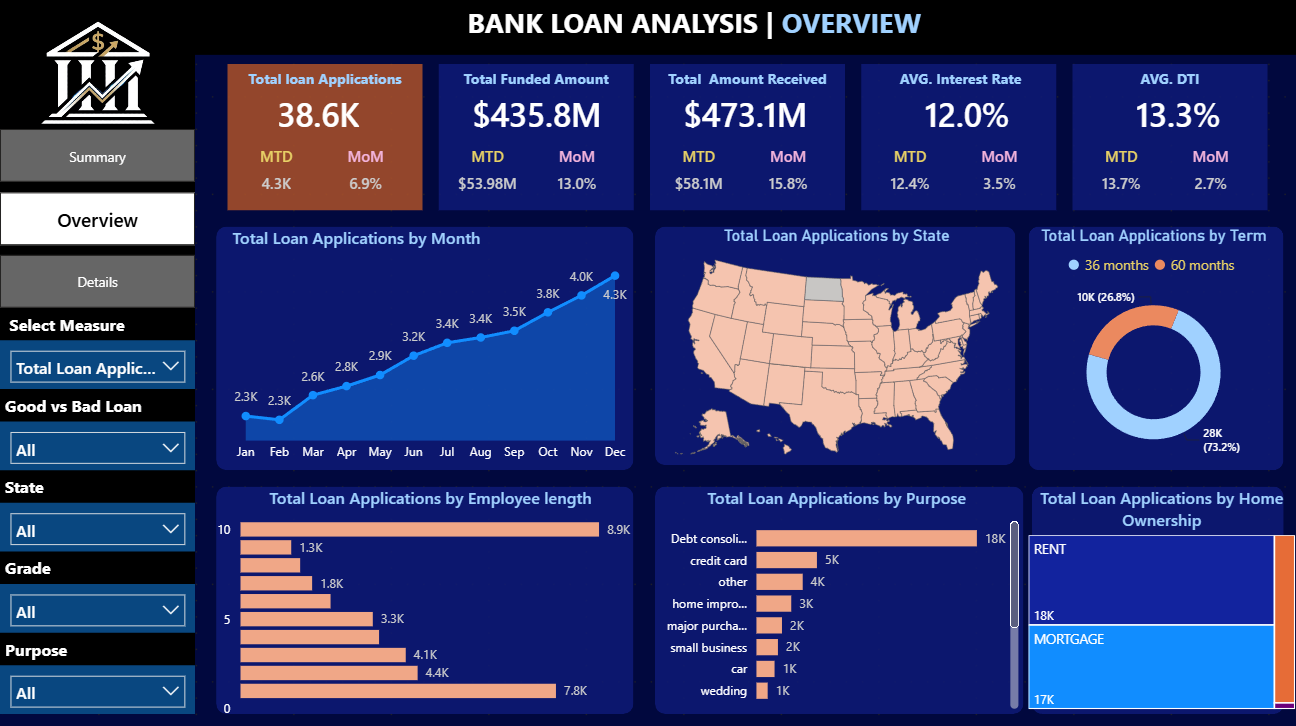

The dashboard page shown, as its layout file describes it:
{"tool":"powerbi","page":{"name":"Overview","canvas":[1280,720],"ordinal":1},"visuals":[{"type":"shape","box":[224,64,192,144],"z":0,"group":"g1"},{"type":"shape","box":[432,64,192,144],"z":0,"group":"g2"},{"type":"shape","box":[640,64,192,144],"z":0,"group":"g3"},{"type":"shape","box":[848,64,192,144],"z":0,"group":"g4"},{"type":"shape","box":[1056,64,192,144],"z":0,"group":"g5"},{"type":"shape","box":[208,224,416,240],"z":0},{"type":"slicer","fields":{"Values":["public cleaned_financial_loan.address_state"]},"box":[0,496,192,48],"z":0,"group":"g6"},{"type":"slicer","fields":{"Values":["public cleaned_financial_loan.grade"]},"box":[0,576,192,48],"z":0,"group":"g8"},{"type":"slicer","fields":{"Values":["public cleaned_financial_loan.purpose"]},"box":[0,656,192,48],"z":0,"group":"g7"},{"type":"shape","box":[0,0,1280,55],"z":1000},{"type":"cardVisual","fields":{"Data":["public cleaned_financial_loan.Total Loan Applications"]},"box":[224,80,192,64],"z":1000,"group":"g1"},{"type":"cardVisual","fields":{"Data":["public cleaned_financial_loan.Total Funded Amount"]},"box":[416,80,240,64],"z":1000,"group":"g2"},{"type":"cardVisual","fields":{"Data":["public cleaned_financial_loan.Total Amount Received"]},"box":[624,80,240,64],"z":1000,"group":"g3"},{"type":"cardVisual","fields":{"Data":["public cleaned_financial_loan.AVG Interest Rate"]},"box":[832,80,240,64],"z":1000,"group":"g4"},{"type":"cardVisual","fields":{"Data":["public cleaned_financial_loan.AVG. DTI"]},"box":[1040,80,240,64],"z":1000,"group":"g5"},{"type":"textbox","box":[0,464,80,32],"z":1000,"group":"g6"},{"type":"textbox","box":[0,544,80,32],"z":1000,"group":"g8"},{"type":"textbox","box":[0,624,96,32],"z":1000,"group":"g7"},{"type":"shape","box":[0,32,192,672],"z":2000},{"type":"textbox","box":[224,64,192,32],"z":2000,"group":"g1"},{"type":"textbox","box":[432,64,192,32],"z":2000,"group":"g2"},{"type":"textbox","box":[640,64,192,32],"z":2000,"group":"g3"},{"type":"textbox","box":[848,64,192,32],"z":2000,"group":"g4"},{"type":"textbox","box":[1056,64,192,32],"z":2000,"group":"g5"},{"type":"textbox","box":[384,0,592,48],"z":3000},{"type":"cardVisual","title":"MTD","fields":{"Data":["public cleaned_financial_loan.MTD Loan Applications"]},"box":[224,144,96,64],"z":3000,"group":"g1"},{"type":"cardVisual","title":"MTD","fields":{"Data":["public cleaned_financial_loan.MTD Funded Amount"]},"box":[432,144,96,64],"z":3000,"group":"g2"},{"type":"cardVisual","title":"MTD","fields":{"Data":["public cleaned_financial_loan.MTD Total Amount Received"]},"box":[640,144,96,64],"z":3000,"group":"g3"},{"type":"cardVisual","title":"MTD","fields":{"Data":["public cleaned_financial_loan.MTD Avg Interest Rate"]},"box":[848,144,96,64],"z":3000,"group":"g4"},{"type":"cardVisual","title":"MTD","fields":{"Data":["public cleaned_financial_loan.MTD Avg DTI"]},"box":[1056,144,96,64],"z":3000,"group":"g5"},{"type":"group","id":"g1","title":"Group 1","box":[224,64,192,144],"z":4000},{"type":"cardVisual","title":"MoM","fields":{"Data":["public cleaned_financial_loan.MoM Loan Application"]},"box":[320,144,80,64],"z":4000,"group":"g1"},{"type":"cardVisual","title":"MoM","fields":{"Data":["public cleaned_financial_loan.MoM Funded Amount"]},"box":[528,144,80,64],"z":4000,"group":"g2"},{"type":"cardVisual","title":"MoM","fields":{"Data":["public cleaned_financial_loan.MoM Total Amount Received"]},"box":[736,144,80,64],"z":4000,"group":"g3"},{"type":"cardVisual","title":"MoM","fields":{"Data":["public cleaned_financial_loan.MoM Avg Interest Rate"]},"box":[944,144,80,64],"z":4000,"group":"g4"},{"type":"cardVisual","title":"MoM","fields":{"Data":["public cleaned_financial_loan.MoM Avg DTI"]},"box":[1152,144,80,64],"z":4000,"group":"g5"},{"type":"group","id":"g2","title":"Group 1","box":[416,64,240,144],"z":5000},{"type":"group","id":"g3","title":"Group 1","box":[624,64,240,144],"z":6000},{"type":"group","id":"g4","title":"Group 1","box":[832,64,240,144],"z":7000},{"type":"group","id":"g5","title":"Group 1","box":[1040,64,240,160],"z":8000},{"type":"slicer","fields":{"Values":["public cleaned_financial_loan.Good vs Bad Loan"]},"box":[0,416,192,48],"z":9000},{"type":"textbox","box":[0,384,160,32],"z":10000},{"type":"group","id":"g6","title":"Group 2","box":[0,464,192,80],"z":11000},{"type":"group","id":"g7","title":"Group 5","box":[0,624,192,80],"z":12000},{"type":"group","id":"g8","title":"Group 3","box":[0,544,192,80],"z":13000},{"type":"areaChart","fields":{"Y":["public cleaned_financial_loan.Total Amount Received"],"Category":["Date Table.Month"]},"box":[224,224,400,240],"z":14000},{"type":"slicer","fields":{"Values":["Select Measure.Select Measure"]},"box":[0,336,192,48],"z":15000},{"type":"textbox","box":[0,304,160,32],"z":16000},{"type":"shape","box":[640,224,360,235],"z":17000},{"type":"shapeMap","fields":{"Value":["public cleaned_financial_loan.Total Amount Received"],"Category":["public cleaned_financial_loan.address_state"]},"box":[640,224,368,240],"z":18000},{"type":"shape","box":[1008,224,256,240],"z":19000},{"type":"donutChart","fields":{"Y":["public cleaned_financial_loan.Total Amount Received"],"Category":["public cleaned_financial_loan.term"]},"box":[1008,224,256,240],"z":20000},{"type":"shape","box":[208,480,416,224],"z":21000},{"type":"barChart","title":"Total Loan Applications by Employee length","fields":{"Y":["public cleaned_financial_loan.Total Amount Received"],"Category":["public cleaned_financial_loan.emp_length"]},"box":[208,480,432,240],"z":22000},{"type":"shape","box":[640,480,368,224],"z":23000},{"type":"barChart","title":"Total Loan Applications by Purpose","fields":{"Y":["public cleaned_financial_loan.Total Amount Received"],"Category":["public cleaned_financial_loan.purpose"]},"box":[640,480,368,224],"z":24000},{"type":"shape","box":[1008,480,256,224],"z":25000},{"type":"treemap","fields":{"Values":["public cleaned_financial_loan.Total Amount Received"],"Group":["public cleaned_financial_loan.home_ownership"]},"box":[1008,480,272,224],"z":26000},{"type":"pageNavigator","box":[0,128,192,176],"z":27000},{"type":"image","box":[0,0,192,144],"z":27001}]}

Visuals, with their boxes in screenshot pixels (x1, y1, x2, y2), scaled from the page's 1280x720 canvas onto the 1296x726 screenshot:
shape: box(227, 65, 421, 210)
shape: box(437, 65, 632, 210)
shape: box(648, 65, 842, 210)
shape: box(859, 65, 1053, 210)
shape: box(1069, 65, 1264, 210)
shape: box(211, 226, 632, 468)
slicer - public cleaned_financial_loan.address_state: box(0, 500, 194, 549)
slicer - public cleaned_financial_loan.grade: box(0, 581, 194, 629)
slicer - public cleaned_financial_loan.purpose: box(0, 661, 194, 710)
shape: box(0, 0, 1295, 55)
cardVisual - public cleaned_financial_loan.Total Loan Applications: box(227, 81, 421, 145)
cardVisual - public cleaned_financial_loan.Total Funded Amount: box(421, 81, 664, 145)
cardVisual - public cleaned_financial_loan.Total Amount Received: box(632, 81, 875, 145)
cardVisual - public cleaned_financial_loan.AVG Interest Rate: box(842, 81, 1085, 145)
cardVisual - public cleaned_financial_loan.AVG. DTI: box(1053, 81, 1295, 145)
textbox: box(0, 468, 81, 500)
textbox: box(0, 549, 81, 581)
textbox: box(0, 629, 97, 661)
shape: box(0, 32, 194, 710)
textbox: box(227, 65, 421, 97)
textbox: box(437, 65, 632, 97)
textbox: box(648, 65, 842, 97)
textbox: box(859, 65, 1053, 97)
textbox: box(1069, 65, 1264, 97)
textbox: box(389, 0, 988, 48)
"MTD" cardVisual: box(227, 145, 324, 210)
"MTD" cardVisual: box(437, 145, 535, 210)
"MTD" cardVisual: box(648, 145, 745, 210)
"MTD" cardVisual: box(859, 145, 956, 210)
"MTD" cardVisual: box(1069, 145, 1166, 210)
"Group 1" group: box(227, 65, 421, 210)
"MoM" cardVisual: box(324, 145, 405, 210)
"MoM" cardVisual: box(535, 145, 616, 210)
"MoM" cardVisual: box(745, 145, 826, 210)
"MoM" cardVisual: box(956, 145, 1037, 210)
"MoM" cardVisual: box(1166, 145, 1247, 210)
"Group 1" group: box(421, 65, 664, 210)
"Group 1" group: box(632, 65, 875, 210)
"Group 1" group: box(842, 65, 1085, 210)
"Group 1" group: box(1053, 65, 1295, 226)
slicer - public cleaned_financial_loan.Good vs Bad Loan: box(0, 419, 194, 468)
textbox: box(0, 387, 162, 419)
"Group 2" group: box(0, 468, 194, 549)
"Group 5" group: box(0, 629, 194, 710)
"Group 3" group: box(0, 549, 194, 629)
areaChart - public cleaned_financial_loan.Total Amount Received x Date Table.Month: box(227, 226, 632, 468)
slicer - Select Measure.Select Measure: box(0, 339, 194, 387)
textbox: box(0, 307, 162, 339)
shape: box(648, 226, 1012, 463)
shapeMap - public cleaned_financial_loan.Total Amount Received x public cleaned_financial_loan.address_state: box(648, 226, 1021, 468)
shape: box(1021, 226, 1280, 468)
donutChart - public cleaned_financial_loan.Total Amount Received x public cleaned_financial_loan.term: box(1021, 226, 1280, 468)
shape: box(211, 484, 632, 710)
"Total Loan Applications by Employee length" barChart: box(211, 484, 648, 725)
shape: box(648, 484, 1021, 710)
"Total Loan Applications by Purpose" barChart: box(648, 484, 1021, 710)
shape: box(1021, 484, 1280, 710)
treemap - public cleaned_financial_loan.Total Amount Received x public cleaned_financial_loan.home_ownership: box(1021, 484, 1295, 710)
pageNavigator: box(0, 129, 194, 307)
image: box(0, 0, 194, 145)
